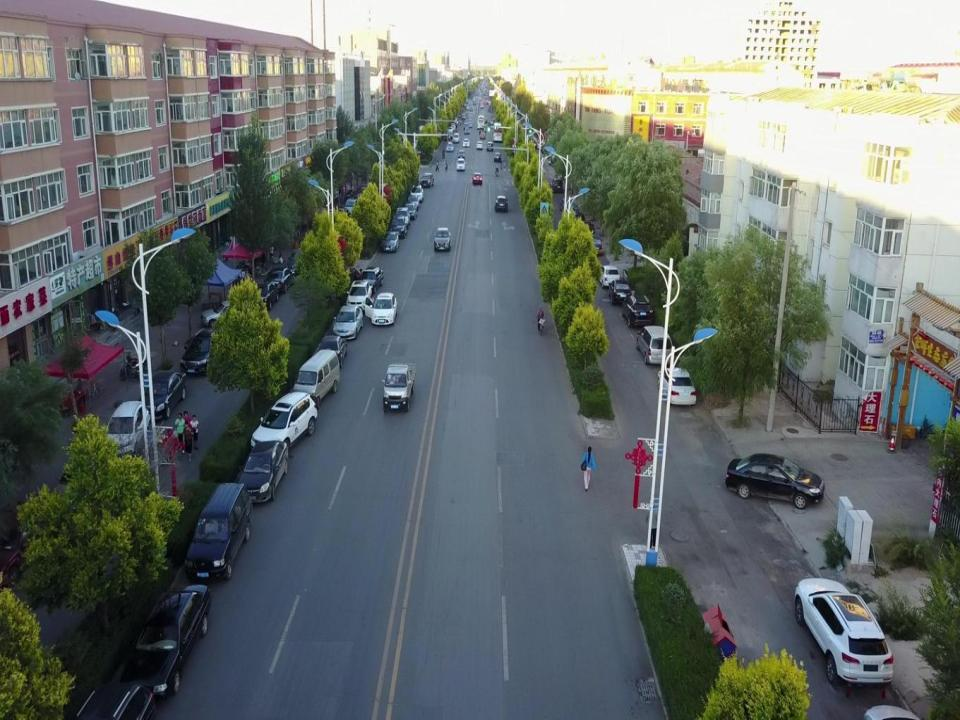bus: (494, 122, 502, 142), (476, 116, 484, 129)
car: (796, 578, 894, 689), (122, 582, 211, 694), (184, 482, 252, 582), (0, 499, 59, 600), (724, 453, 824, 509), (250, 391, 318, 454), (237, 440, 288, 502), (101, 400, 150, 460), (140, 371, 186, 418), (179, 328, 225, 374), (657, 367, 696, 406), (200, 300, 250, 328), (635, 327, 672, 364), (622, 292, 654, 329), (364, 292, 397, 325), (332, 305, 363, 338), (318, 335, 346, 367), (346, 280, 371, 314), (248, 282, 278, 310), (265, 266, 296, 291), (285, 249, 311, 274), (358, 265, 382, 292), (608, 279, 631, 303), (597, 264, 619, 288), (434, 228, 451, 252), (390, 215, 407, 238), (380, 230, 398, 251), (568, 210, 585, 231), (588, 233, 604, 255), (394, 207, 408, 229), (580, 220, 596, 238), (409, 184, 423, 202), (404, 202, 417, 221), (494, 195, 508, 212), (344, 198, 357, 216), (420, 172, 434, 188), (405, 195, 419, 210), (551, 179, 563, 194), (472, 172, 482, 186), (561, 198, 571, 210), (456, 158, 466, 170), (446, 142, 455, 152), (493, 151, 501, 162), (486, 141, 494, 152), (462, 137, 470, 147), (458, 150, 466, 159), (452, 135, 460, 143), (476, 141, 483, 150), (480, 132, 486, 139), (480, 126, 484, 134)
truck: (382, 362, 415, 412)
van: (293, 348, 339, 407)
